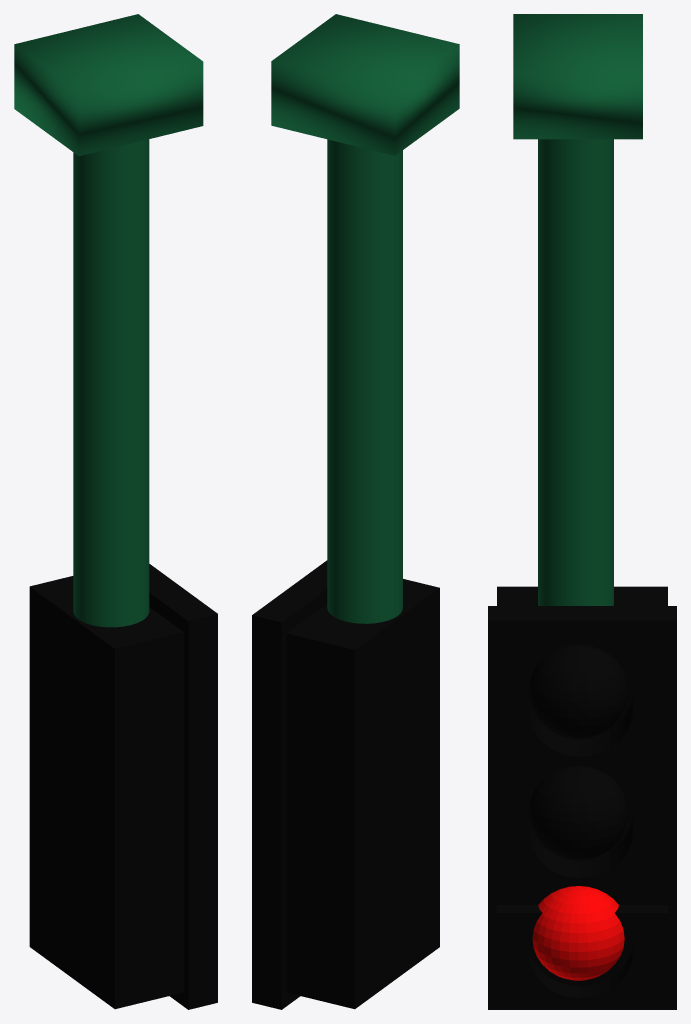
Rendered from semaforo_rojo.dae.
3 renders of one model, left to right at view 1: azimuth 30°, elevation 25°; view 2: azimuth 150°, elevation 25°; view 3: azimuth 270°, elevation 25°, orthographic.
Visible parts, largest first — view 1: Cube, Cube.001; view 2: Cube, Cube.001; view 3: Cube, Cube.001, green light, orange light, red light, Circle.001, Circle.002, Circle.
Boxes of the visible parts, x1,y1,x2,y2 form: Cube: (29, 564, 217, 1009); Cube.001: (14, 14, 203, 627); Cube: (252, 560, 439, 1009); Cube.001: (271, 14, 459, 623); Cube: (488, 586, 676, 1009); Cube.001: (513, 14, 642, 605); green light: (529, 644, 628, 739); orange light: (529, 766, 628, 860); red light: (532, 886, 624, 980); Circle.001: (527, 811, 633, 877); Circle.002: (527, 690, 633, 756); Circle: (527, 939, 633, 997).
Bounding box in the file's own units: 0.9625 × 1.02 × 5.58.
